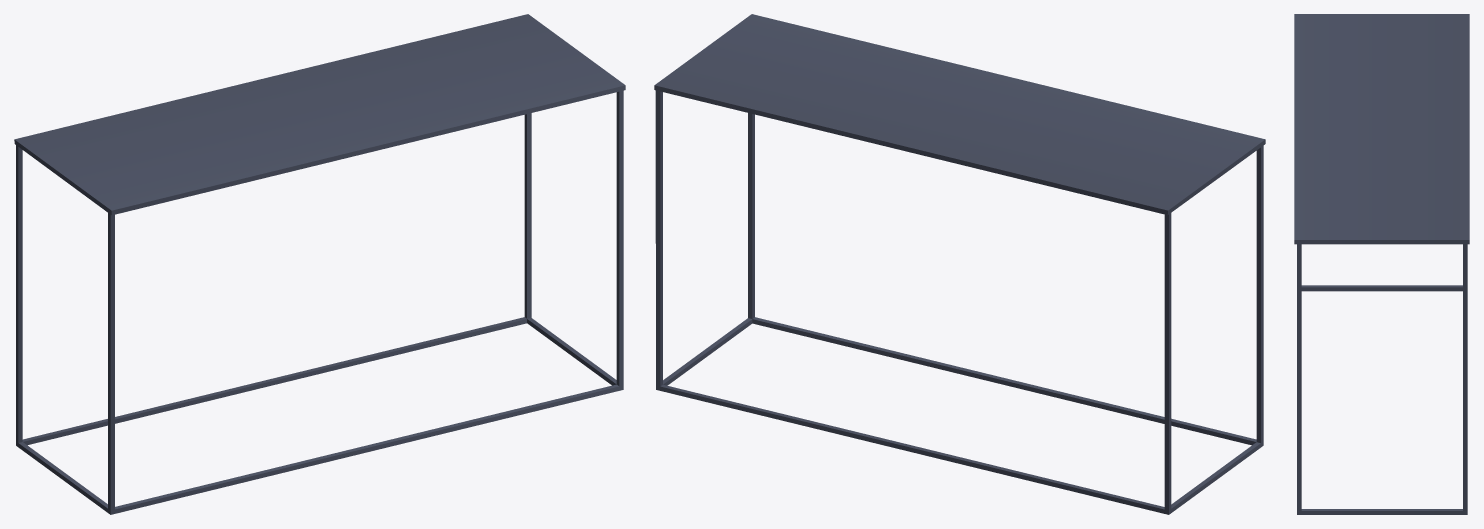
File: squidgame_props_stairlanding2.fbx
The picture shows the model from 3 angles, left to right: view 1: azimuth 30°, elevation 25°; view 2: azimuth 150°, elevation 25°; view 3: azimuth 270°, elevation 25°; orthographic projection. The views are drawn at different scales.
Visible parts, largest first — view 1: squidgame_props_stairlanding2; view 2: squidgame_props_stairlanding2; view 3: squidgame_props_stairlanding2.
Part boxes in pixels (x1=…): squidgame_props_stairlanding2: x1=14, y1=14, x2=625, y2=514; squidgame_props_stairlanding2: x1=654, y1=14, x2=1265, y2=514; squidgame_props_stairlanding2: x1=1294, y1=14, x2=1469, y2=514.
Size of the model in its own units: 3.39 by 1.93 by 1.11.
